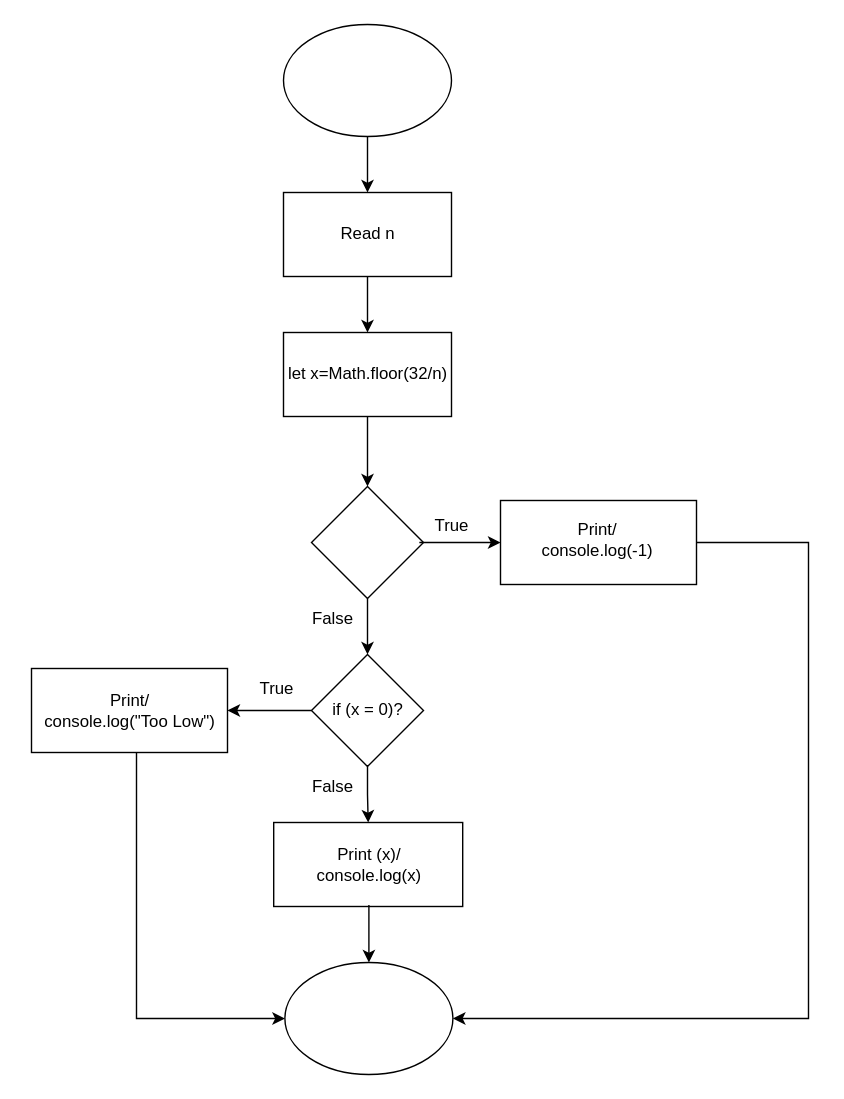
This 844x1099 diagram has some shape labels left out. Each missing label, with the box of its shape:
if (n = 0)?: (310, 485, 424, 598)
Start: (282, 23, 451, 136)
Stop: (284, 961, 453, 1074)
